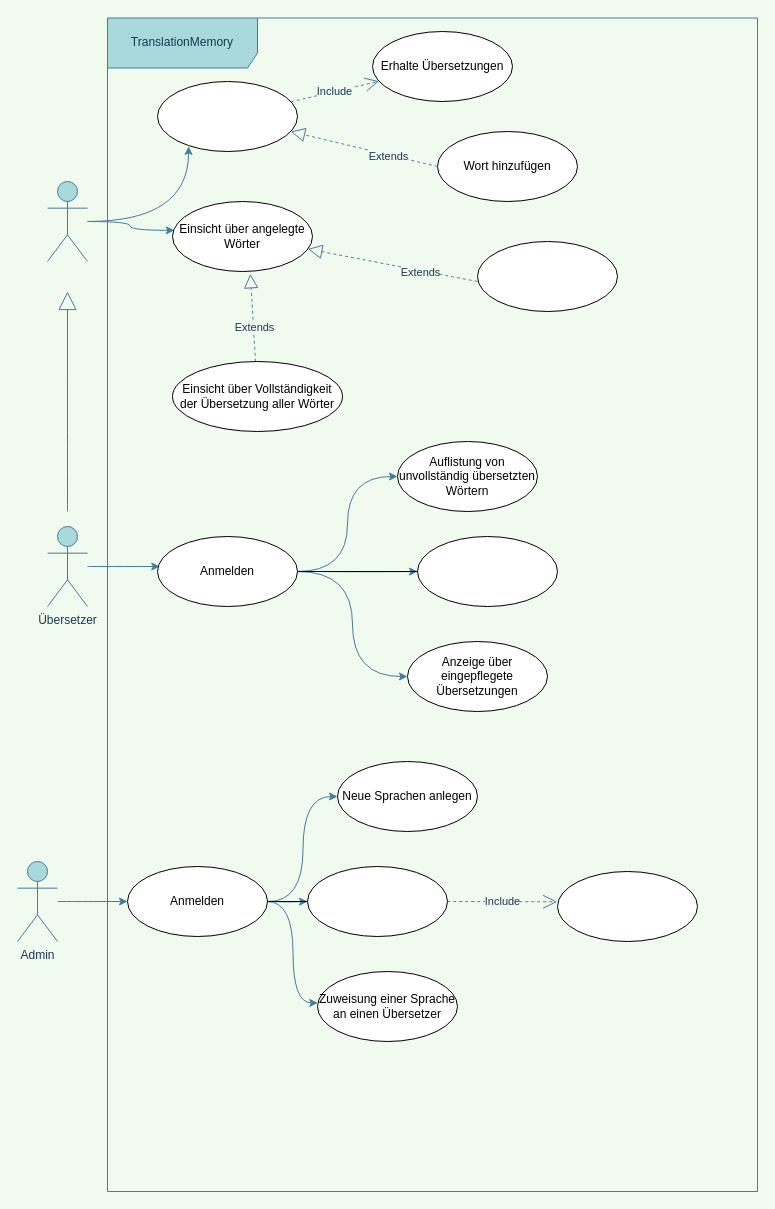
Some shapes in this 775 by 1209 pixel diagram are drawn without their labels. Each missing label, with the centre of its shape:
Einpflege von Übersetzung der einzelnen Wörter: (487,571)
Einsicht über Anzahl aller Wörter in DB: (547,276)
Nach Wörtern suchen: (227,116)
Suche nach deren Übersetzungen: (627,906)
Suche nach Wörtern: (377,901)
User: (67,221)
